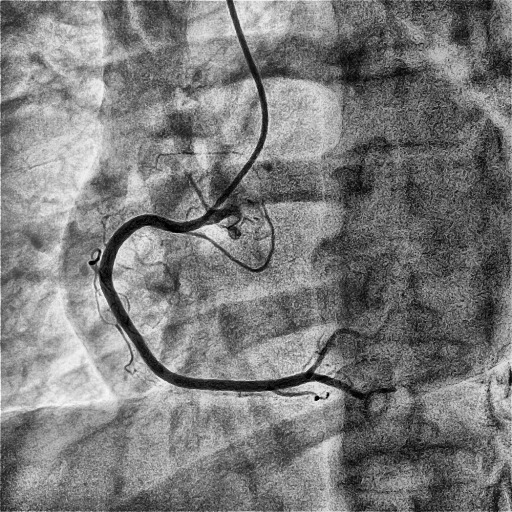pborca: (307, 309, 391, 373)
pda: (308, 373, 397, 400)
rca: (100, 209, 314, 391)
